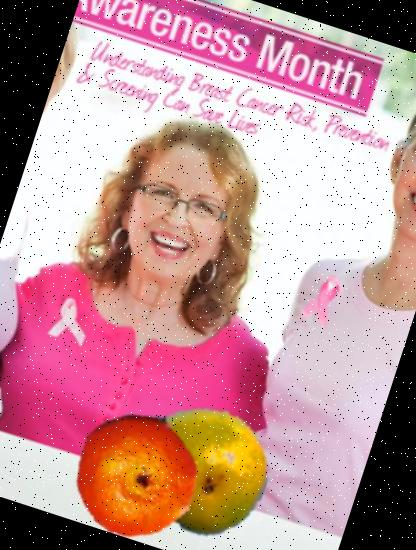Clementine: (56, 393, 217, 550)
Maracuja: (111, 380, 286, 550)
